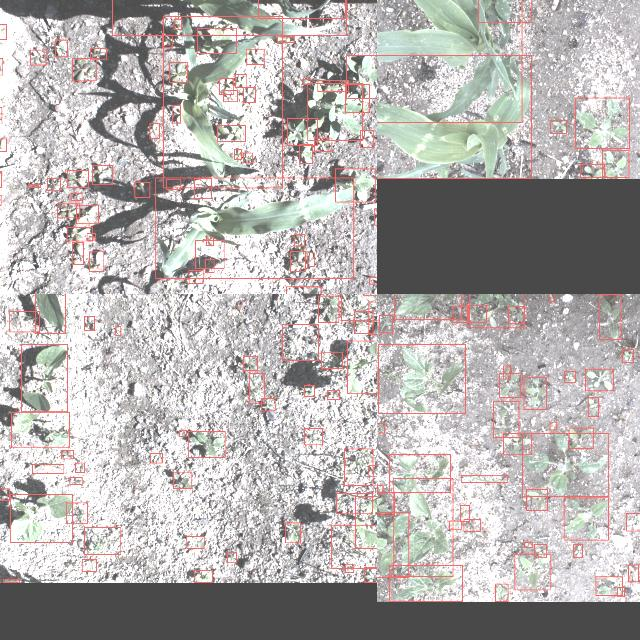crop: (162, 16, 282, 188), (155, 178, 353, 278), (377, 55, 530, 178), (377, 0, 521, 122), (112, 0, 346, 35), (378, 344, 464, 414), (393, 478, 452, 576), (21, 344, 67, 412), (9, 494, 72, 542), (388, 566, 462, 602), (388, 454, 449, 492), (377, 512, 408, 577), (393, 294, 460, 319), (257, 0, 344, 18), (347, 341, 377, 393), (354, 496, 377, 548), (35, 294, 65, 333), (285, 287, 320, 294), (3, 579, 19, 583)
weed: (522, 433, 608, 497), (306, 84, 362, 140), (575, 98, 629, 148), (331, 525, 377, 568), (11, 412, 69, 446), (562, 498, 608, 540), (468, 294, 523, 327), (345, 55, 377, 99), (334, 168, 374, 202), (281, 324, 317, 360), (514, 554, 550, 590), (477, 0, 530, 22), (343, 448, 372, 486), (196, 28, 236, 54), (598, 294, 620, 340), (84, 527, 120, 555), (340, 294, 377, 320), (188, 431, 225, 457), (492, 401, 518, 437), (287, 118, 317, 146), (194, 240, 223, 268), (602, 150, 628, 178), (523, 376, 545, 409), (336, 494, 372, 514), (345, 84, 369, 112), (9, 310, 39, 332), (502, 433, 532, 455), (585, 369, 613, 391), (71, 58, 95, 80), (498, 373, 520, 397), (318, 296, 338, 322), (595, 576, 621, 596), (217, 125, 246, 142), (65, 502, 87, 524), (248, 373, 264, 403), (568, 428, 592, 448), (76, 204, 98, 223), (353, 311, 372, 333), (526, 490, 546, 510), (66, 170, 88, 188), (377, 492, 394, 515), (460, 475, 506, 483), (66, 227, 92, 241), (317, 80, 347, 92), (169, 62, 187, 82), (92, 166, 112, 184), (468, 304, 487, 322), (193, 179, 210, 199), (56, 204, 80, 218), (580, 164, 604, 178), (321, 352, 342, 368), (88, 252, 104, 272), (284, 523, 300, 543), (32, 464, 62, 474), (368, 301, 377, 334), (246, 48, 264, 64), (304, 429, 322, 445), (173, 472, 191, 488), (298, 144, 312, 164), (290, 251, 304, 271), (625, 513, 640, 531), (134, 182, 150, 198), (508, 306, 524, 322), (359, 130, 373, 148), (378, 315, 392, 333), (494, 584, 508, 602), (72, 242, 82, 266), (218, 78, 232, 94), (30, 50, 46, 64), (550, 120, 566, 134), (452, 306, 466, 322), (313, 138, 331, 150), (193, 571, 211, 583), (186, 536, 204, 548), (363, 567, 377, 582), (188, 270, 202, 284), (243, 356, 257, 370), (55, 40, 67, 56), (463, 520, 479, 532), (588, 398, 598, 417), (223, 90, 237, 102), (243, 88, 255, 102), (234, 74, 246, 88), (46, 178, 60, 190), (261, 398, 275, 410), (81, 560, 95, 572), (534, 544, 546, 558), (90, 48, 106, 58), (628, 566, 638, 582), (172, 105, 180, 123), (459, 505, 468, 521), (162, 34, 172, 48), (149, 124, 159, 138), (166, 180, 180, 190), (84, 316, 94, 330), (572, 544, 582, 558), (294, 234, 304, 246), (327, 390, 339, 400), (150, 453, 162, 463), (61, 450, 73, 460), (622, 350, 632, 362), (564, 371, 574, 382), (276, 36, 294, 42), (204, 260, 213, 272), (242, 153, 252, 163), (304, 386, 314, 396), (74, 463, 84, 473), (0, 488, 9, 499), (70, 193, 82, 201), (449, 521, 461, 529), (502, 366, 510, 378), (0, 24, 6, 39), (227, 553, 236, 563), (368, 466, 377, 476), (307, 253, 313, 267), (173, 19, 181, 29), (344, 564, 354, 572), (616, 587, 624, 597), (69, 478, 81, 484), (233, 149, 240, 159), (377, 423, 384, 433), (0, 138, 5, 151), (368, 277, 377, 284), (205, 237, 212, 246), (86, 233, 94, 240), (302, 78, 310, 84), (178, 430, 186, 436), (523, 542, 531, 548), (550, 422, 556, 430), (116, 326, 120, 336), (28, 185, 40, 188), (548, 294, 553, 301), (0, 58, 2, 74), (377, 485, 381, 493), (376, 194, 377, 208)
